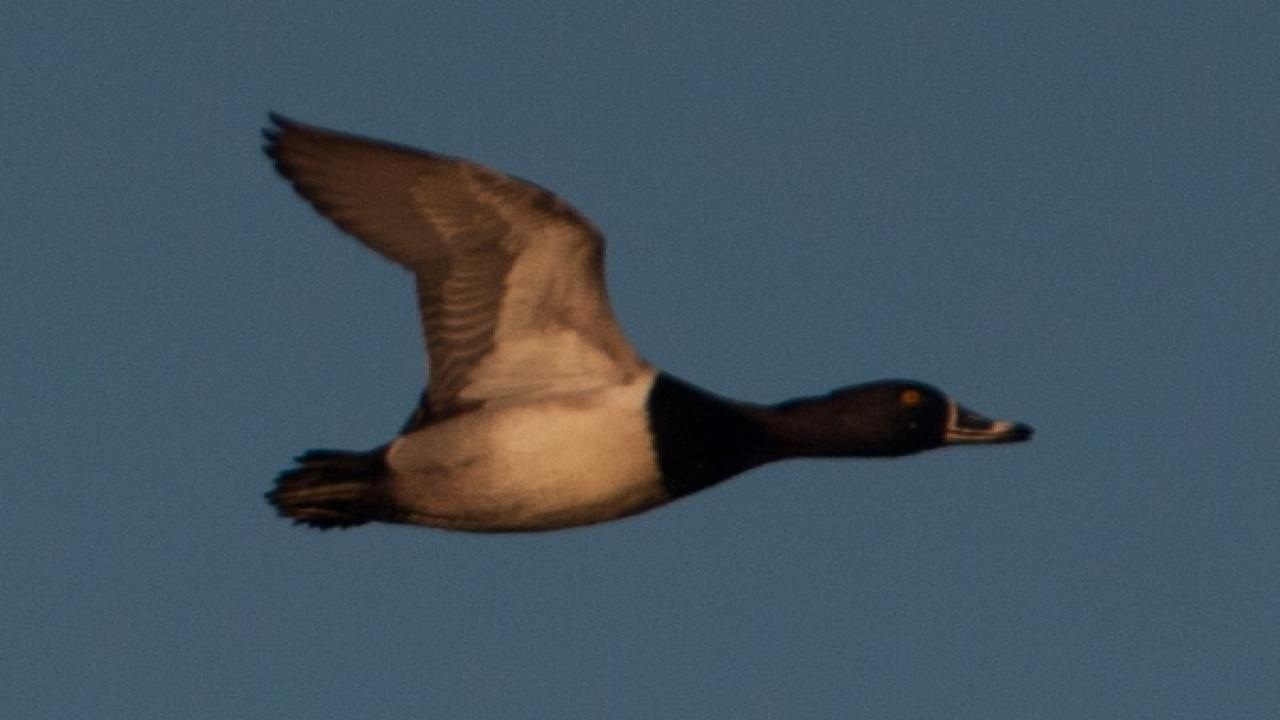Bird: (224, 99, 1050, 545)
